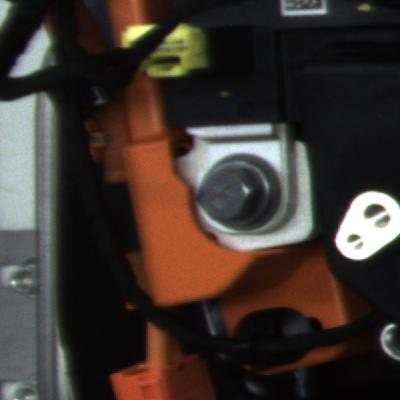nut_b: (182, 147, 294, 241)
